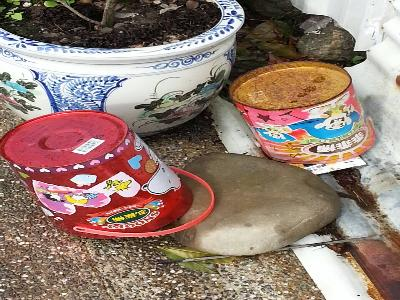bottle: (1, 109, 194, 237), (225, 59, 382, 168)
